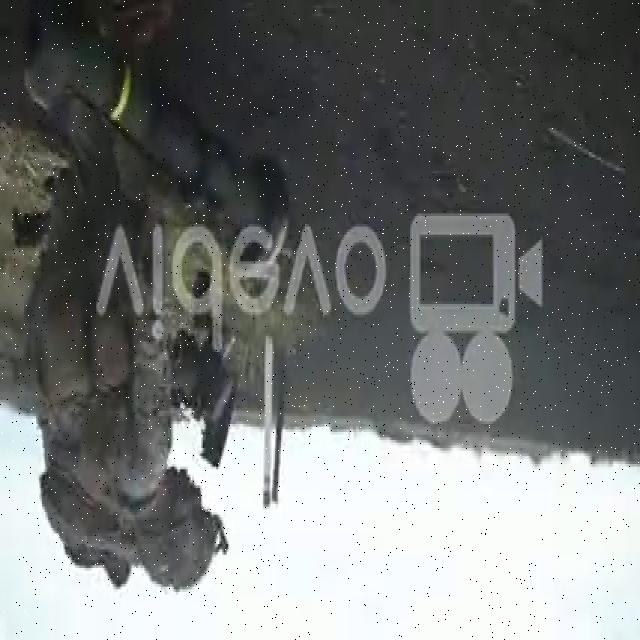bazooka: (15, 1, 294, 287)
